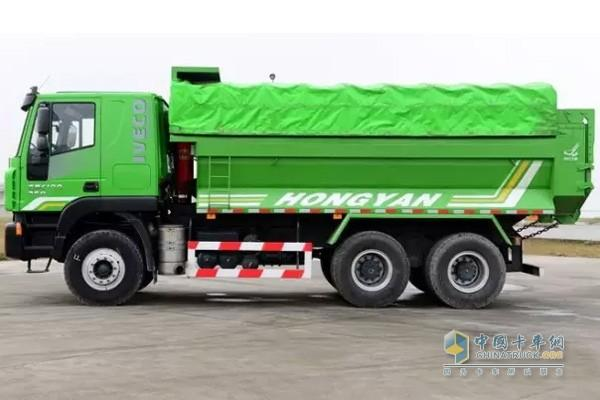truck: (5, 52, 600, 334)
